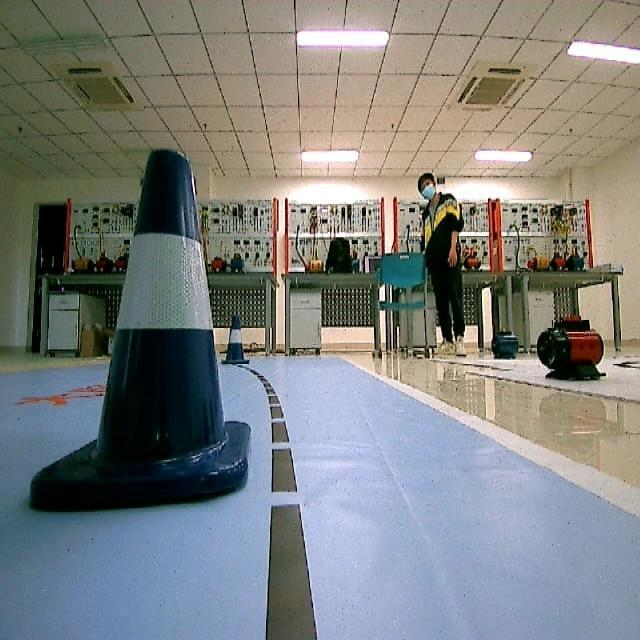obstacle: (26, 140, 256, 520)
